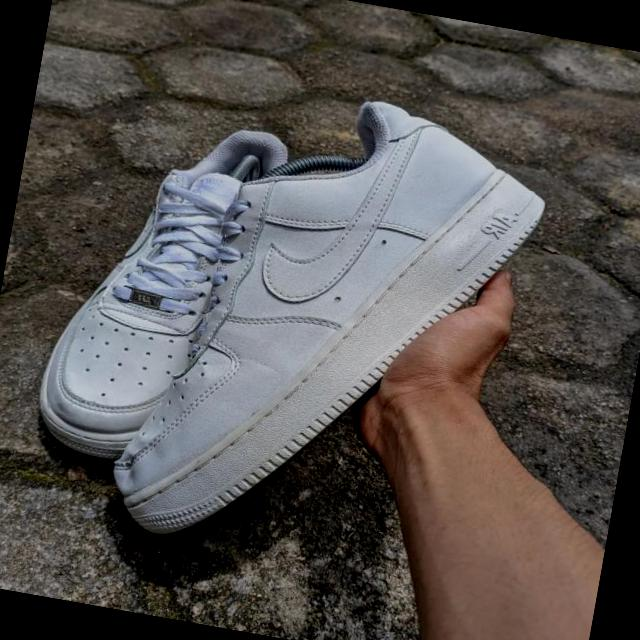nike_fake_airforce: (102, 64, 560, 594), (28, 108, 306, 490)
